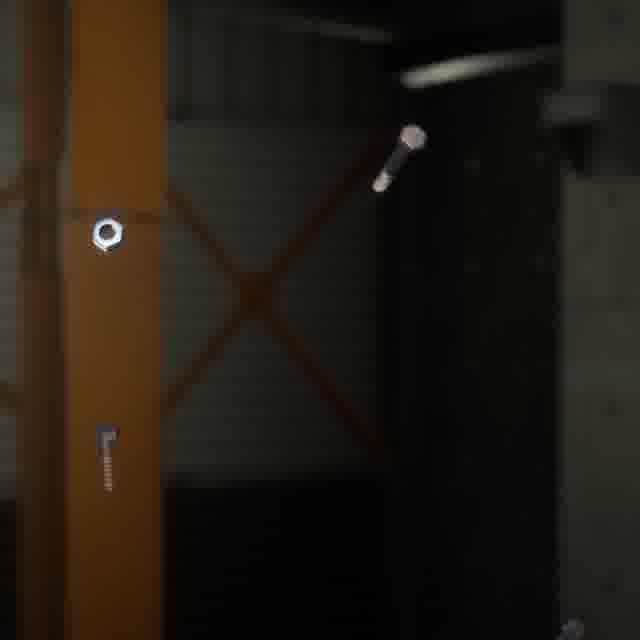bolt: (368, 120, 430, 196), (87, 419, 123, 496), (549, 614, 588, 640)
nut: (87, 212, 129, 256)
